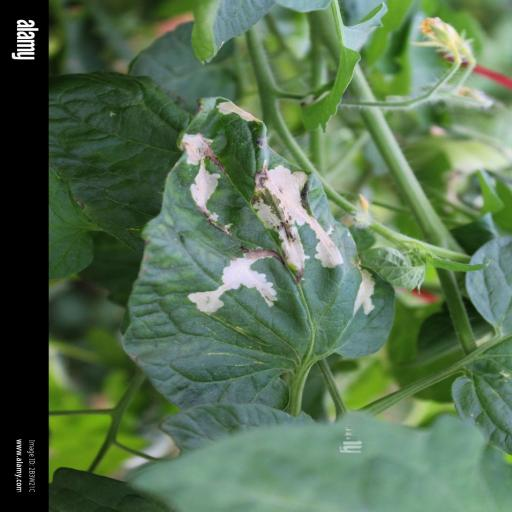Leaf Miner: (120, 90, 398, 408)
